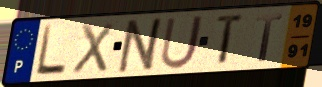L: (33, 24, 68, 78)
N: (115, 16, 168, 75)
T: (215, 12, 246, 69), (254, 12, 284, 63)
U: (158, 13, 206, 71)
X: (70, 21, 116, 76)
